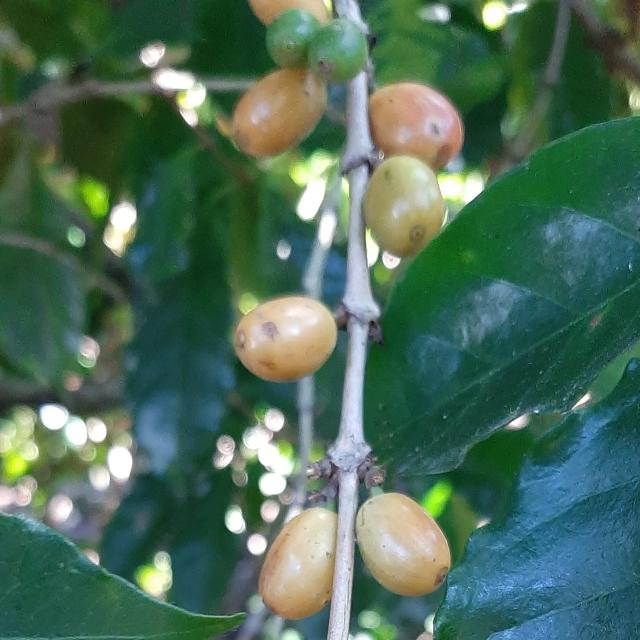green: (308, 18, 368, 81), (265, 8, 321, 68)
red: (356, 493, 452, 597), (258, 508, 338, 621), (234, 296, 337, 383), (369, 82, 465, 170), (233, 68, 327, 157)
yellow: (364, 155, 446, 258)
